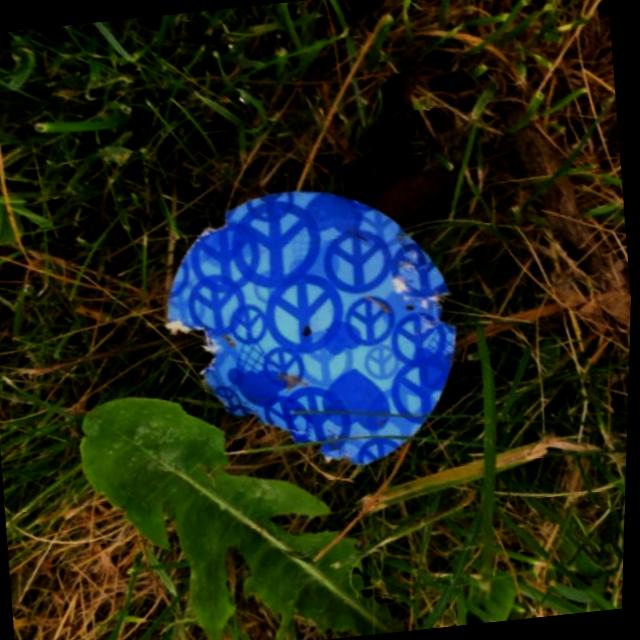Paper: (147, 172, 479, 486)
